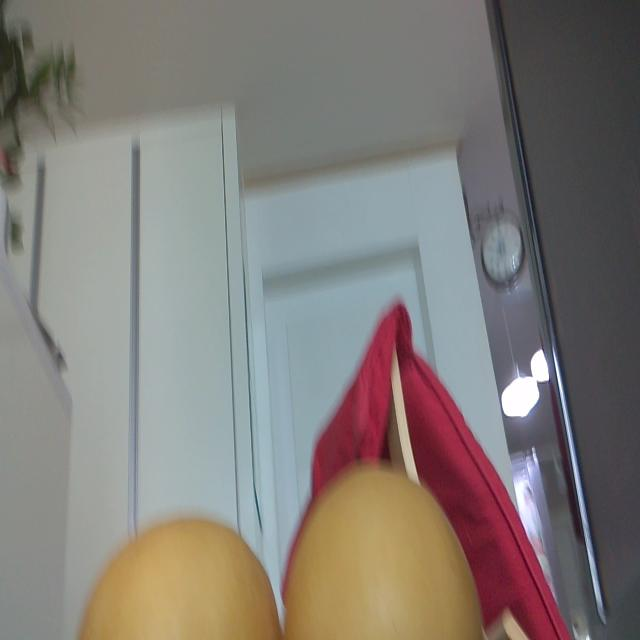pear: (277, 460, 485, 640), (71, 501, 279, 640)
